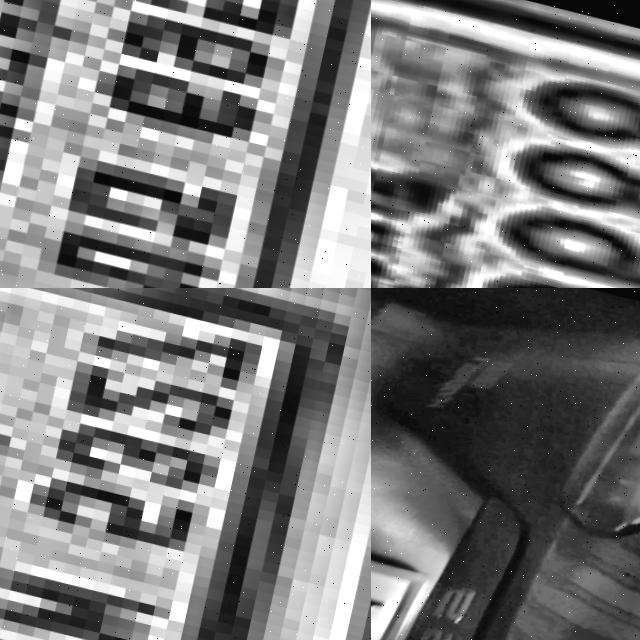license-plate: (0, 288, 371, 640), (0, 0, 371, 288), (371, 0, 640, 288)
